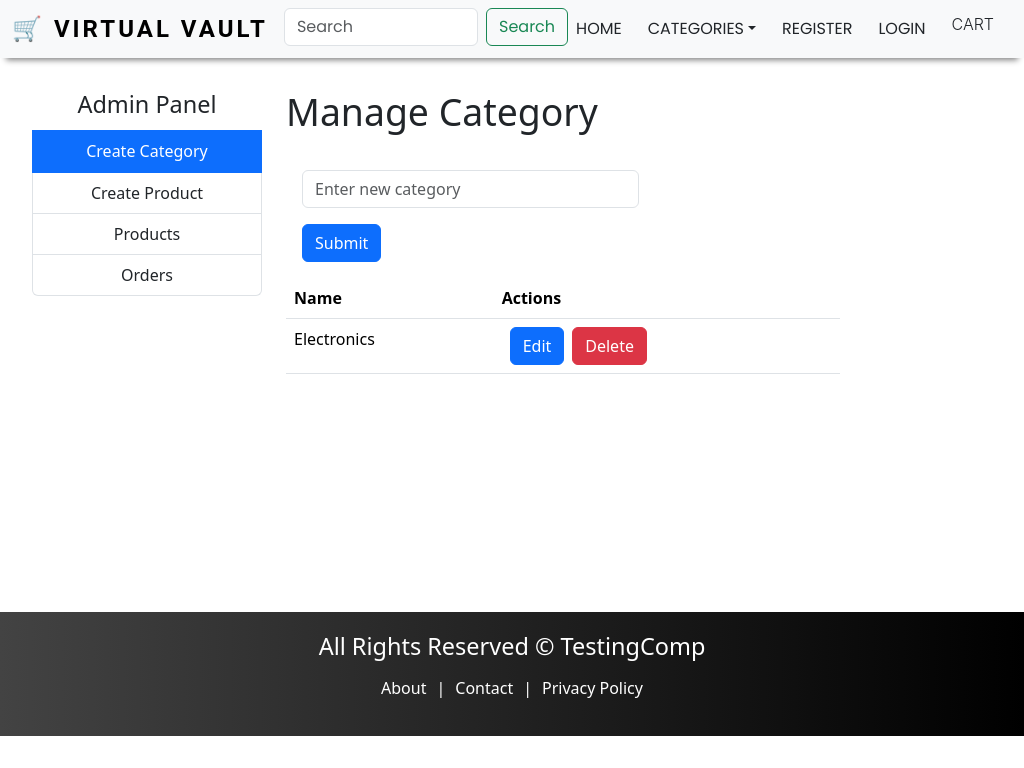
Test: handleDelete() functionality › handleDelete() successfully deletes a category
expect the text "Electronics" is shown: met, box [286,318,494,373]
What coordinates should you click on to do the following:
click the button "Delete"
I would click on:
 (610, 346)
Its box is [572,326,647,364].
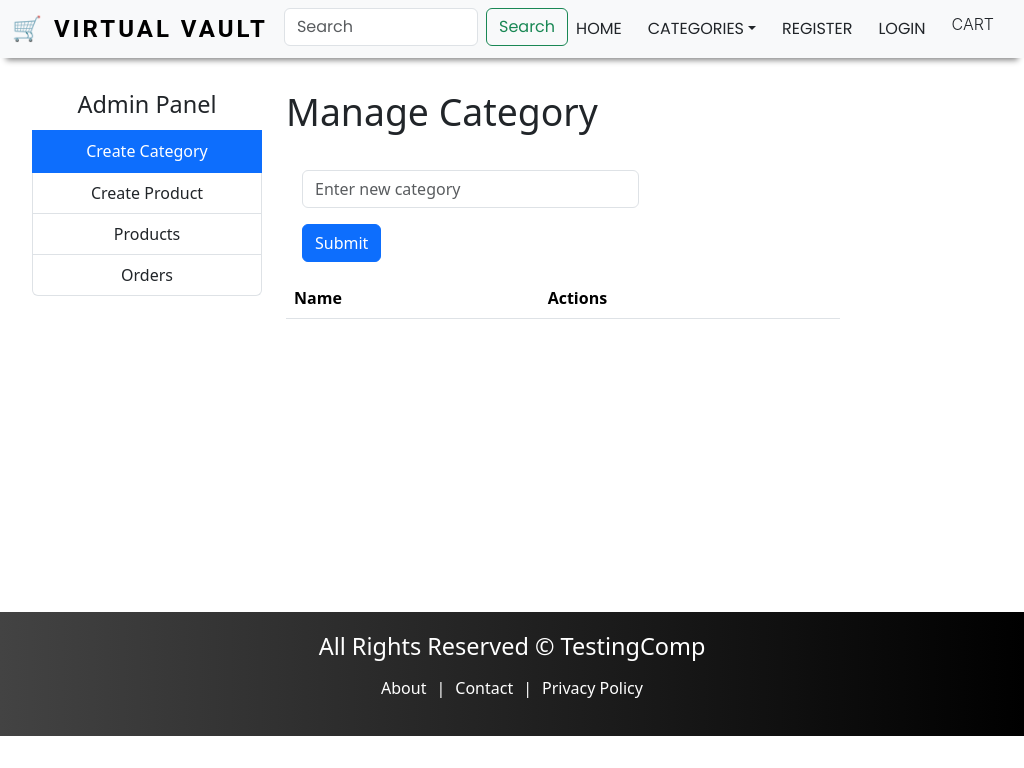
expect the text "Electronics" is gone: met
